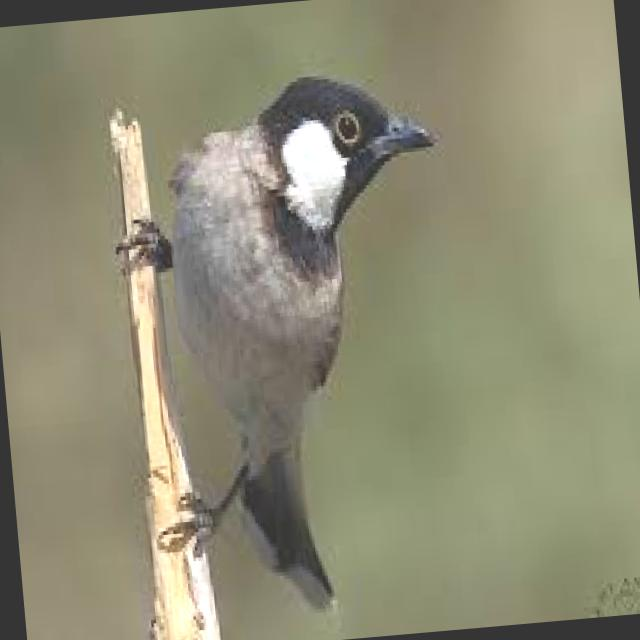bird: (101, 56, 482, 640)
